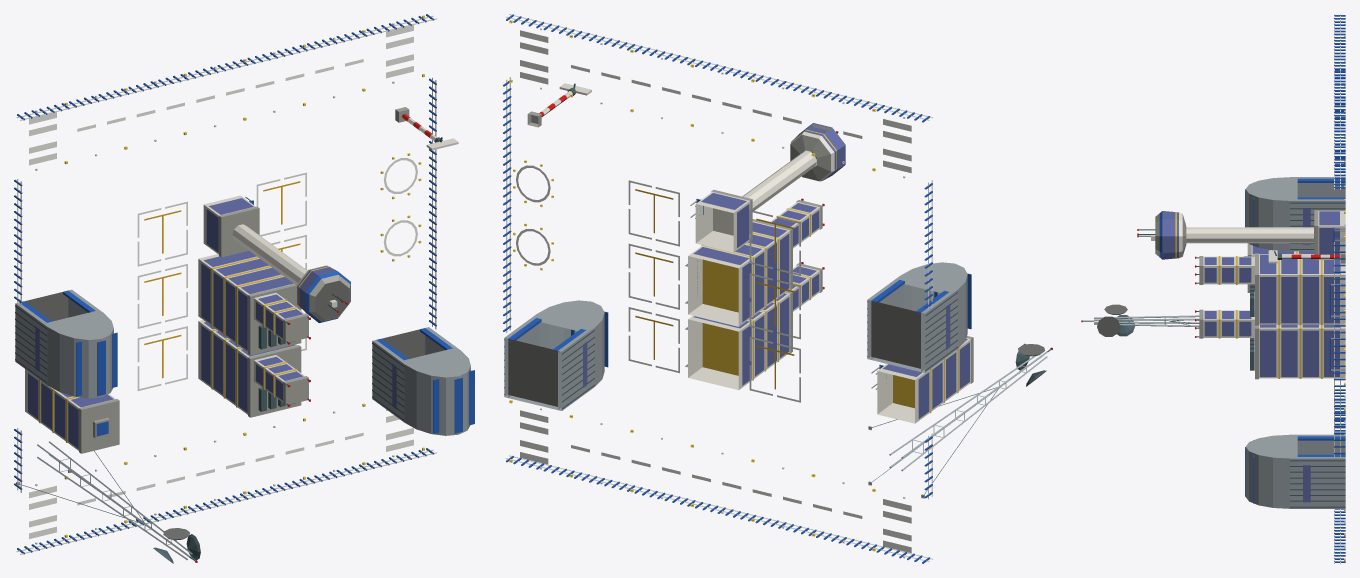
The picture shows the model from 3 angles, left to right: view 1: azimuth 30°, elevation 25°; view 2: azimuth 150°, elevation 25°; view 3: azimuth 270°, elevation 25°; orthographic projection. The views are drawn at different scales.
Parts seen in each view (by area): view 1: t0_3_g24, t6_1_g24, t3_3_g19, t3_2_g19, t3_4_g47, t0_2_g22, t0_1_g32, t0_0_g49, t0_6_g18, t6_6_g18, t6_5_g51, t6_0_g49 (+5 smaller); view 2: t6_1_g24, t0_3_g24, t3_3_g19, t3_2_g19, t3_4_g47, t0_2_g22, t0_1_g32, t0_6_g18, t6_6_g18, t6_0_g49, t0_0_g49, t6_5_g51 (+2 smaller); view 3: t3_3_g19, t6_1_g24, t3_2_g19, t3_4_g47, t0_3_g24, t0_1_g32, t6_5_g51, t0_2_g22.
Boxes of the visible parts, <box> form: t0_3_g24: <box>15,289,117,398</box>; t6_1_g24: <box>372,327,474,435</box>; t3_3_g19: <box>198,251,310,355</box>; t3_2_g19: <box>198,320,310,417</box>; t3_4_g47: <box>203,195,350,322</box>; t0_2_g22: <box>25,369,119,453</box>; t0_1_g32: <box>14,427,200,563</box>; t0_0_g49: <box>16,476,79,554</box>; t0_6_g18: <box>16,101,79,170</box>; t6_6_g18: <box>374,14,436,83</box>; t6_5_g51: <box>395,77,458,150</box>; t6_0_g49: <box>374,409,436,467</box>; t6_1_g24: <box>504,300,608,410</box>; t0_3_g24: <box>867,262,971,372</box>; t3_3_g19: <box>685,198,824,326</box>; t3_2_g19: <box>685,262,824,390</box>; t3_4_g47: <box>690,123,845,252</box>; t0_2_g22: <box>871,336,973,423</box>; t0_1_g32: <box>868,343,1052,499</box>; t0_6_g18: <box>868,102,933,178</box>; t6_6_g18: <box>505,14,569,89</box>; t6_0_g49: <box>505,400,569,475</box>; t0_0_g49: <box>868,488,932,563</box>; t6_5_g51: <box>503,77,591,142</box>; t3_3_g19: <box>1195,253,1345,325</box>; t6_1_g24: <box>1245,434,1345,508</box>; t3_2_g19: <box>1195,309,1345,379</box>; t3_4_g47: <box>1137,210,1345,260</box>; t0_3_g24: <box>1245,177,1345,251</box>; t0_1_g32: <box>1081,304,1199,336</box>; t6_5_g51: <box>1268,242,1345,295</box>; t0_2_g22: <box>1244,243,1314,292</box>.
Bounding box in the file's own units: 112 × 112 × 71.4.
